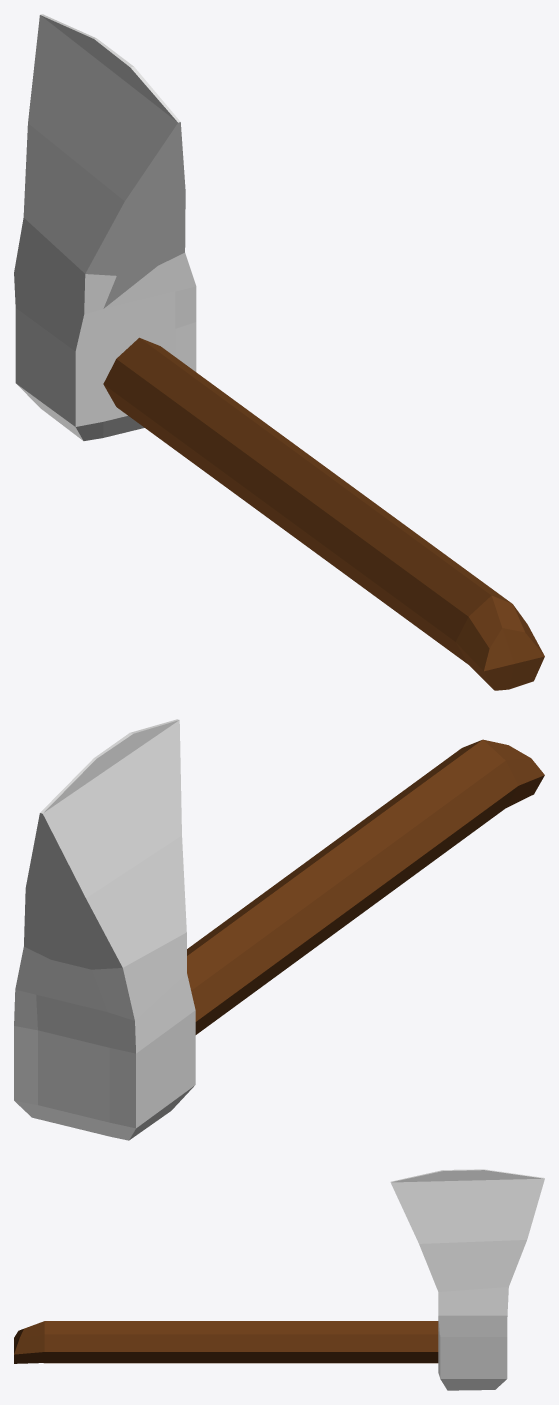
Rendered from axe.fbx.
3 views of the same model, one above another, from view 1: azimuth 30°, elevation 25°; view 2: azimuth 150°, elevation 25°; view 3: azimuth 270°, elevation 25° (orthographic). The views are drawn at different scales.
Visible parts, largest first — view 1: Axe Head, Handle; view 2: Axe Head, Handle; view 3: Axe Head, Handle.
Boxes of the visible parts, <box> form: Axe Head: <box>14,14,196,440</box>; Handle: <box>103,337,544,690</box>; Axe Head: <box>14,719,195,1140</box>; Handle: <box>187,739,544,1034</box>; Axe Head: <box>390,1169,544,1390</box>; Handle: <box>14,1321,438,1363</box>.
Size of the model in its own units: 18.08 by 52.22 by 122.
